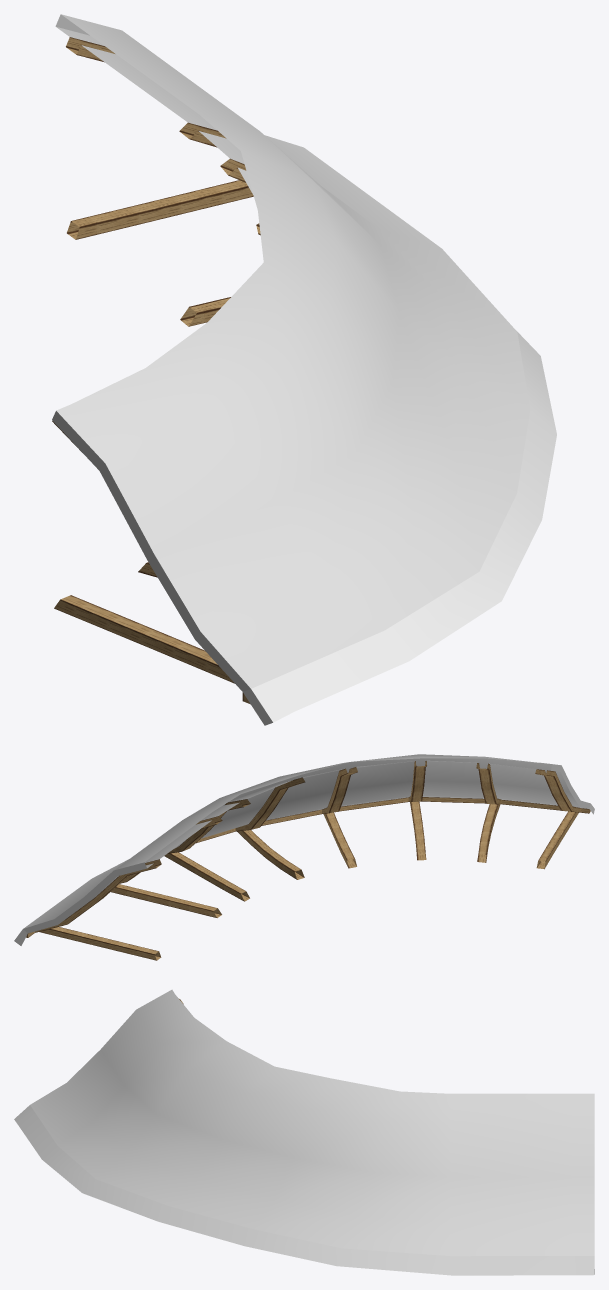
The model's file is SM_world_2_big_roof.fbx.
3 renders of one model, top to bottom at view 1: azimuth 30°, elevation 25°; view 2: azimuth 150°, elevation 25°; view 3: azimuth 270°, elevation 25°, orthographic. The views are drawn at different scales.
Visible parts, largest first — view 1: Roof_Temp; view 2: Roof_Temp; view 3: Roof_Temp.
Part boxes in pixels (x1,y1,x2,y2): Roof_Temp: (52, 14, 556, 725); Roof_Temp: (14, 754, 594, 960); Roof_Temp: (14, 989, 594, 1275).
Bounding box in the file's own units: 4234 × 6072 × 1385.
